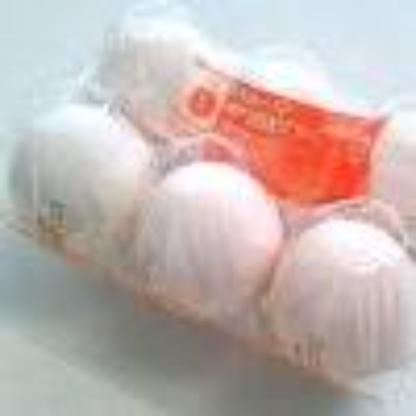egg: (253, 209, 415, 386), (132, 151, 276, 340), (7, 97, 145, 274), (216, 46, 336, 208), (82, 3, 202, 152), (364, 92, 415, 261)
